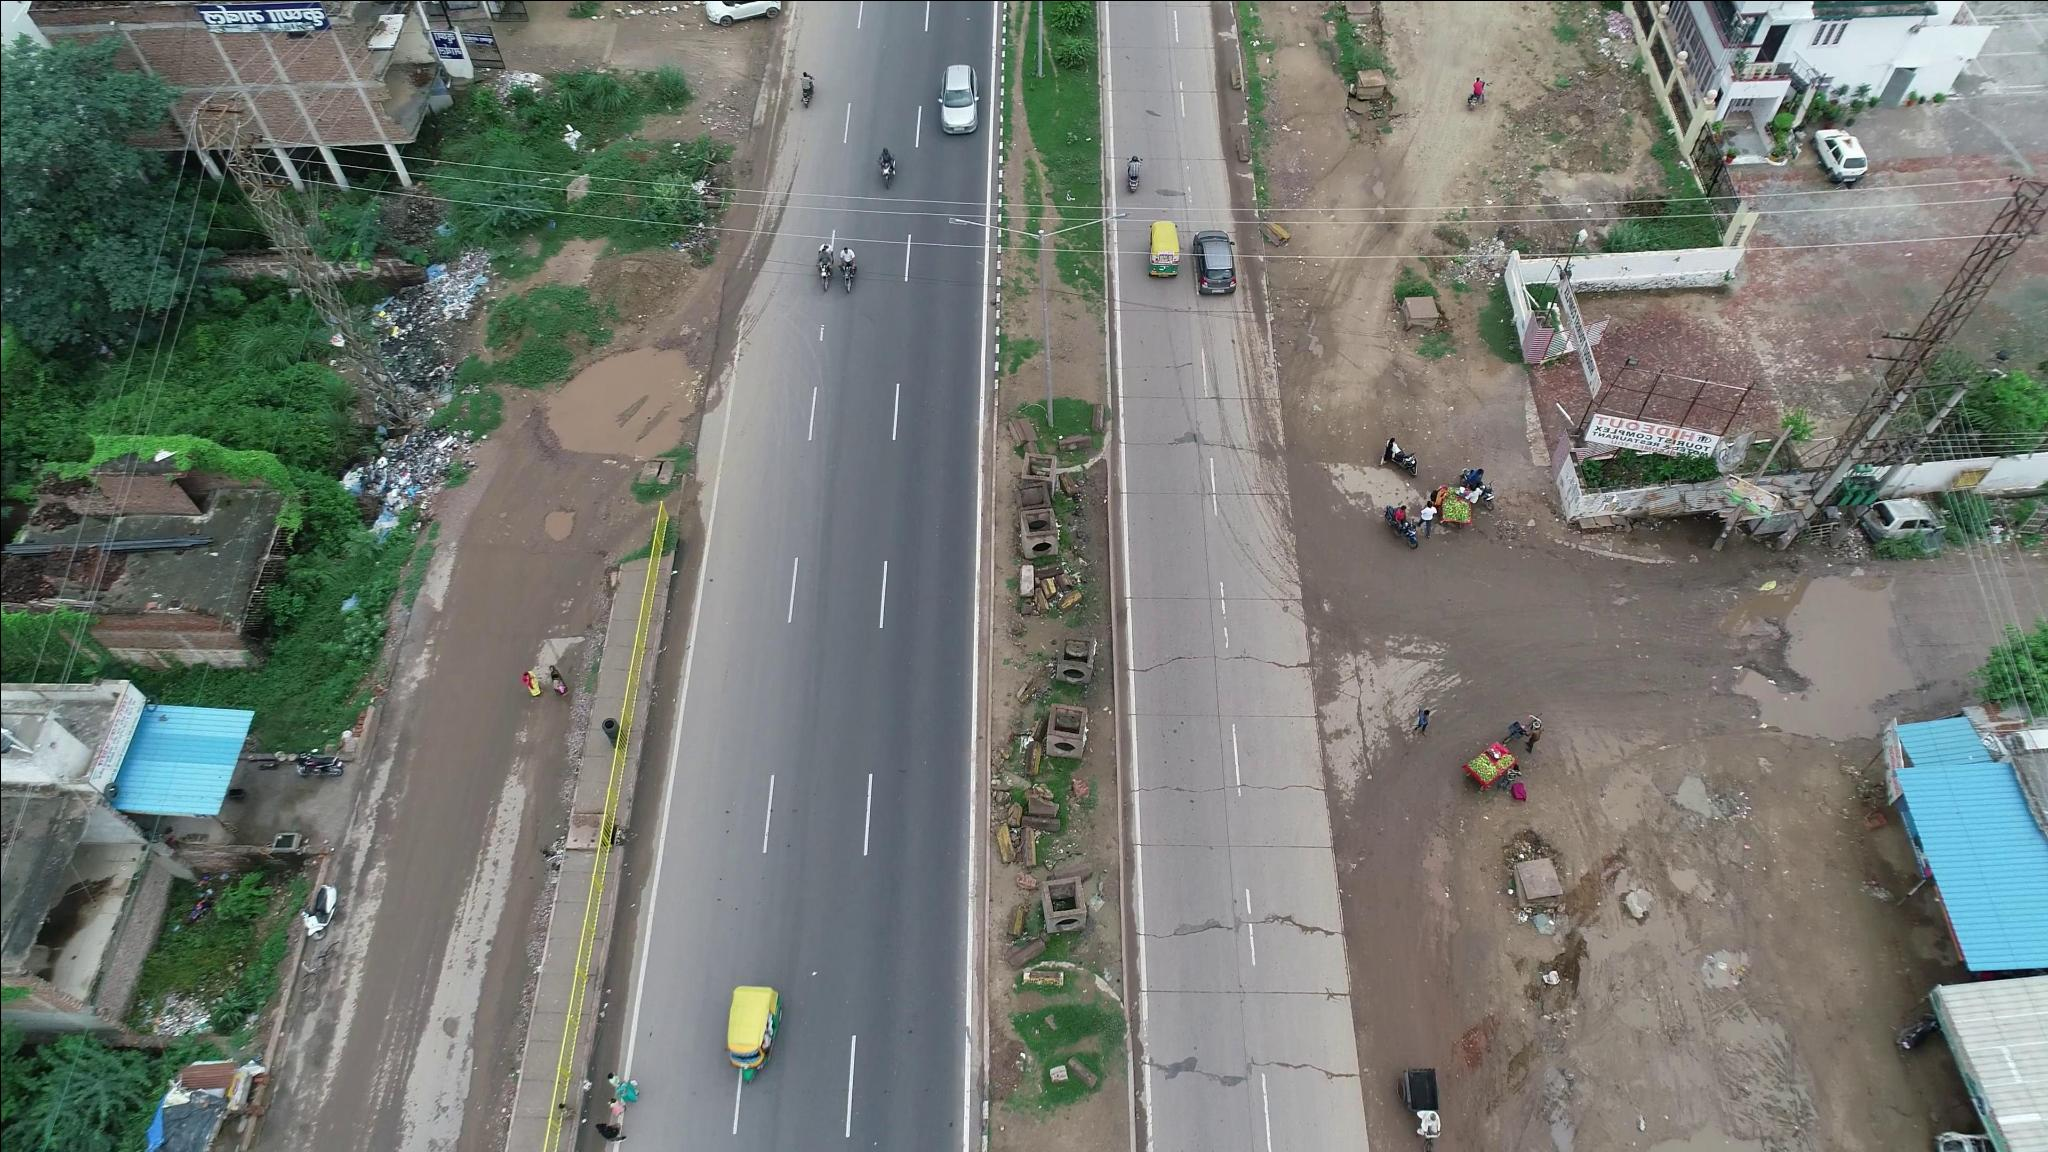Potholes: (532, 485, 602, 556)
Road_side_garbage: (367, 255, 492, 497)
